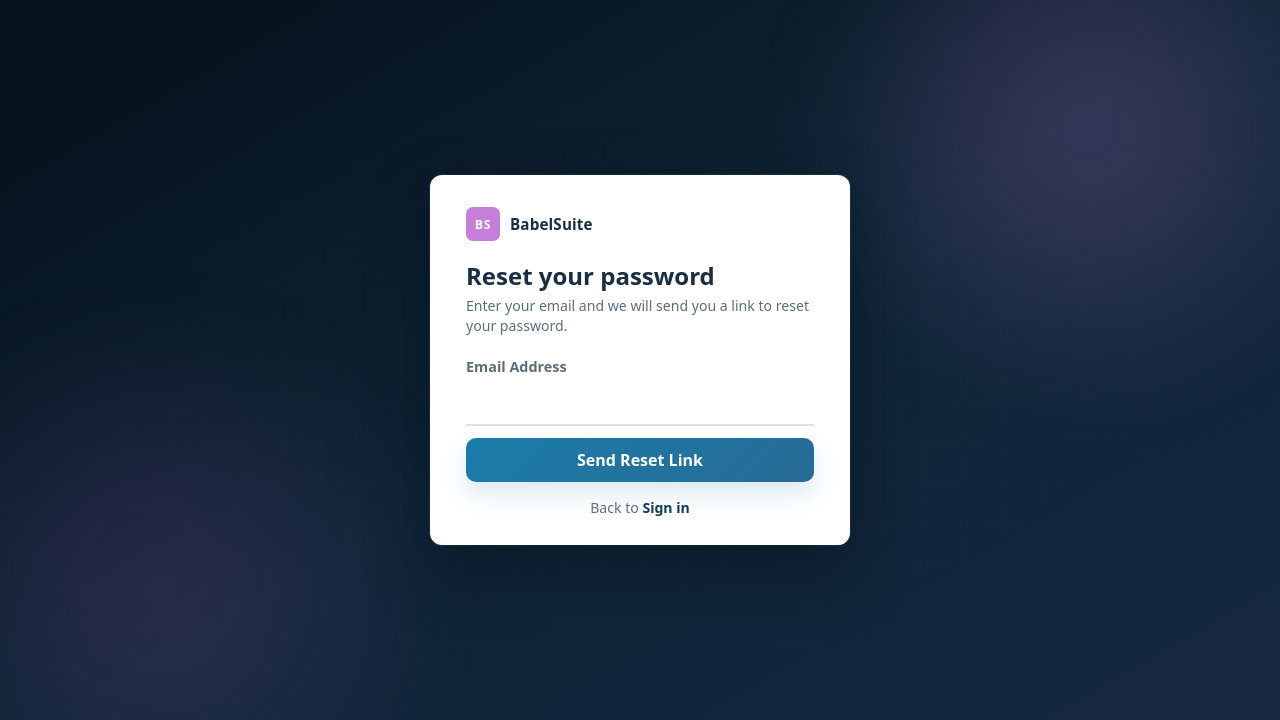
Test: ForgotPassword › shows loading state while submitting
Type "alice@example.com" into the field labelled "Email Address".
click(640, 405); type("alice@example.com")  # box x1=466 y1=384 x2=814 y2=426
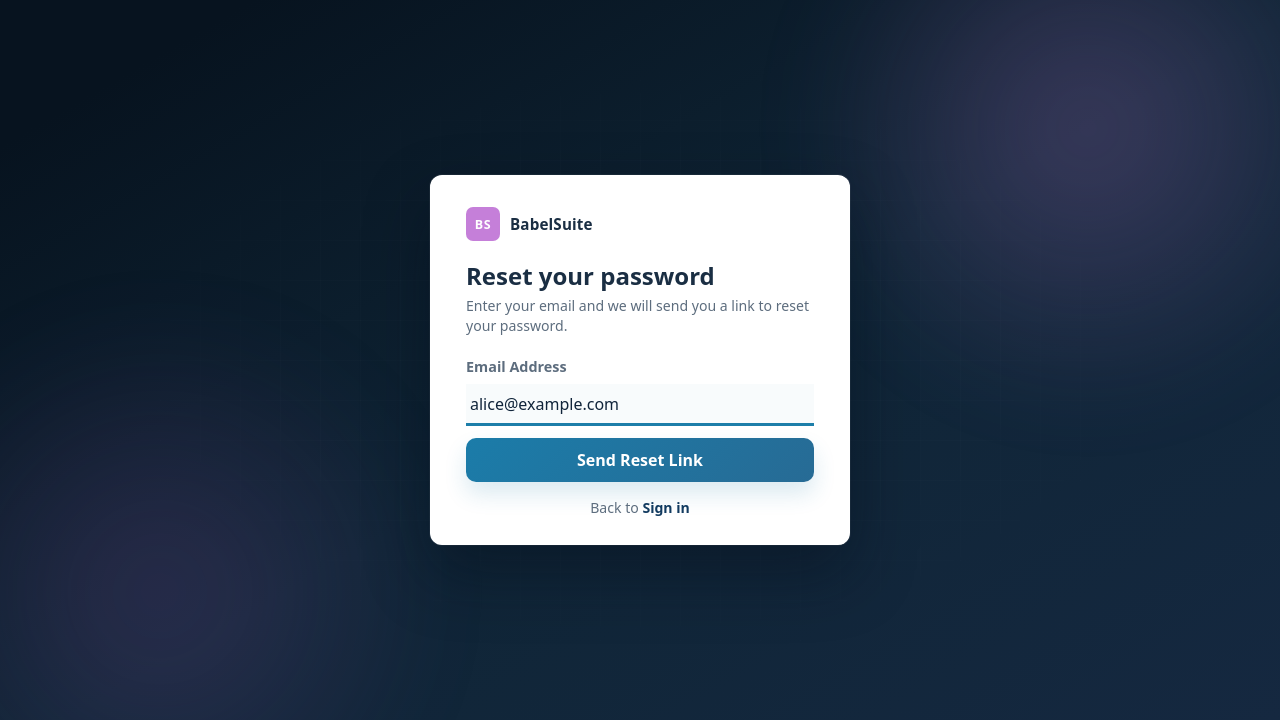
Click the button "Send Reset Link".
click(640, 460)  # box x1=466 y1=438 x2=814 y2=482
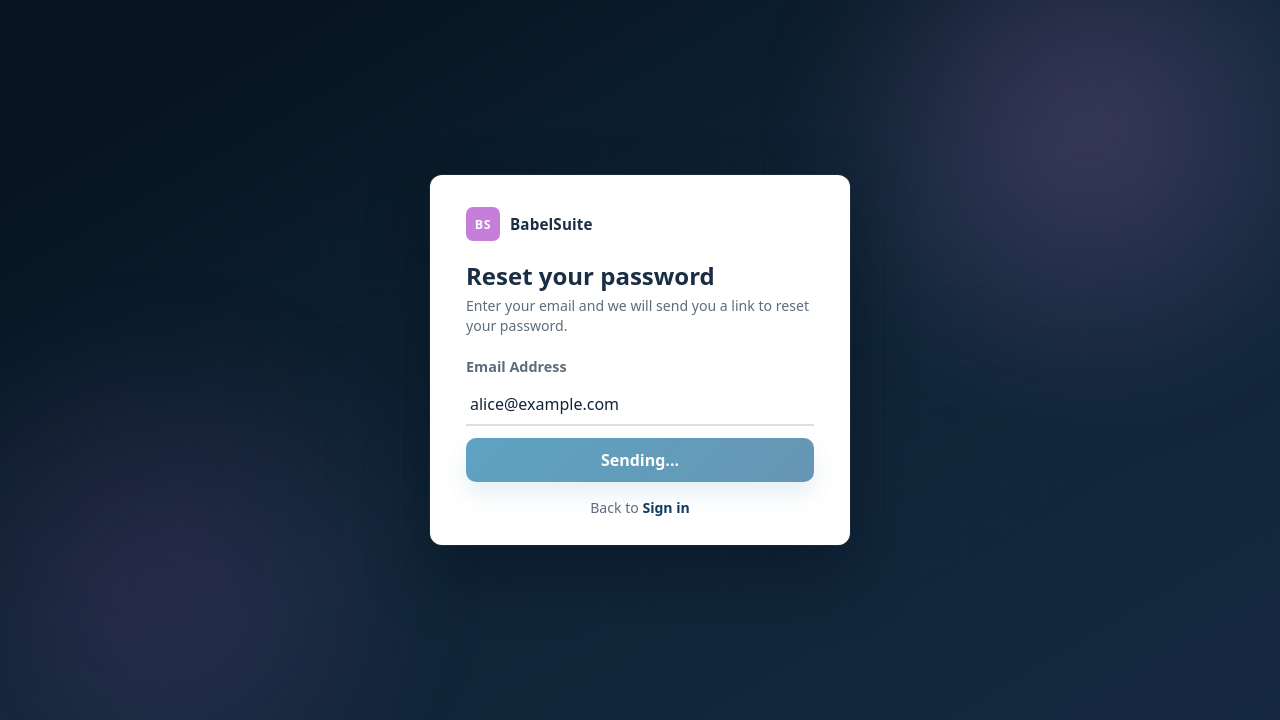
Result: the button "Sending..." is disabled at x1=466 y1=438 x2=814 y2=482
